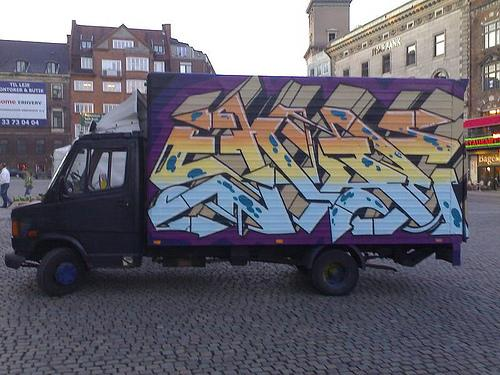truck: (5, 71, 469, 297)
